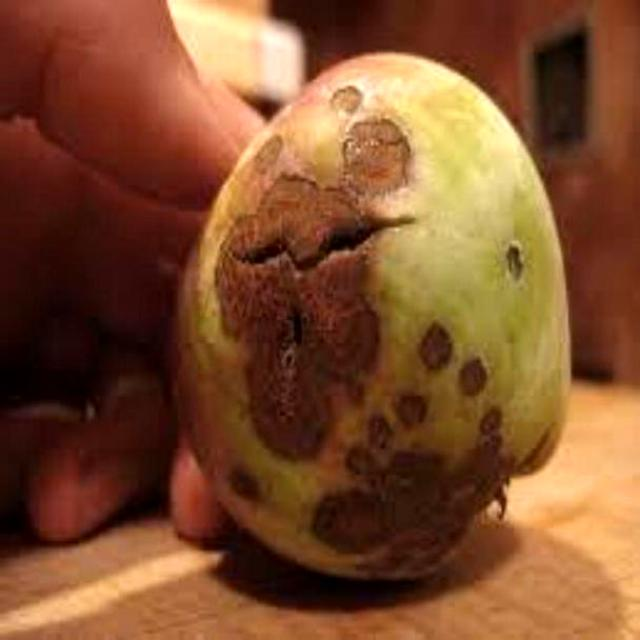SCAB: (144, 46, 600, 594)
